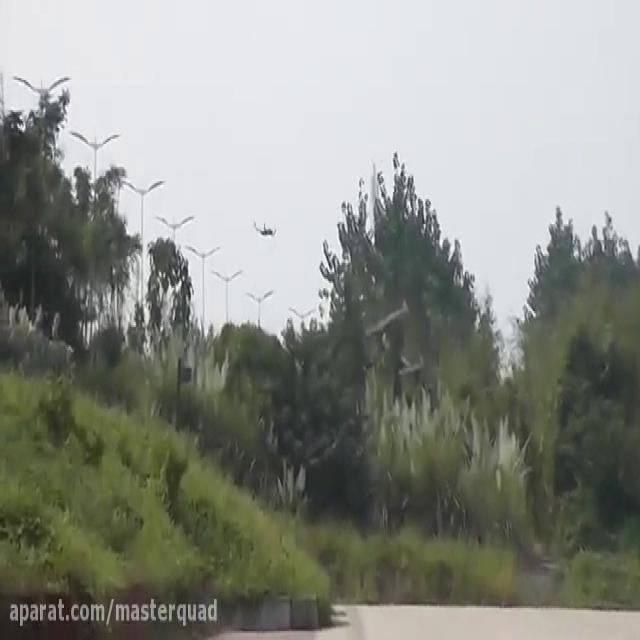drone: (250, 212, 277, 242)
